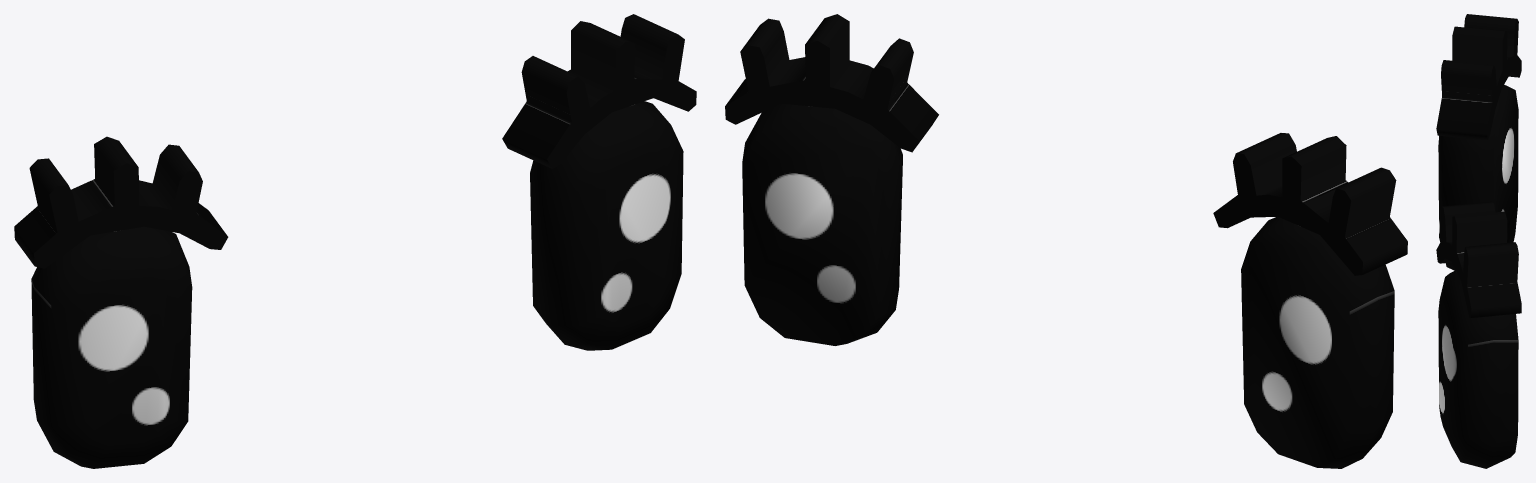
File: eyes_02.fbx
3 renders of one model, left to right at view 1: azimuth 30°, elevation 25°; view 2: azimuth 150°, elevation 25°; view 3: azimuth 270°, elevation 25°, orthographic. The views are drawn at different scales.
Visible parts, largest first — view 1: Eyes_02; view 2: Eyes_02; view 3: Eyes_02.
Part boxes in pixels (x1,y1,x2,y2): Eyes_02: (14,14,696,468); Eyes_02: (725,14,1407,468); Eyes_02: (1436,14,1521,468).
Size of the model in its own units: 68.19 by 30.83 by 9.75.
